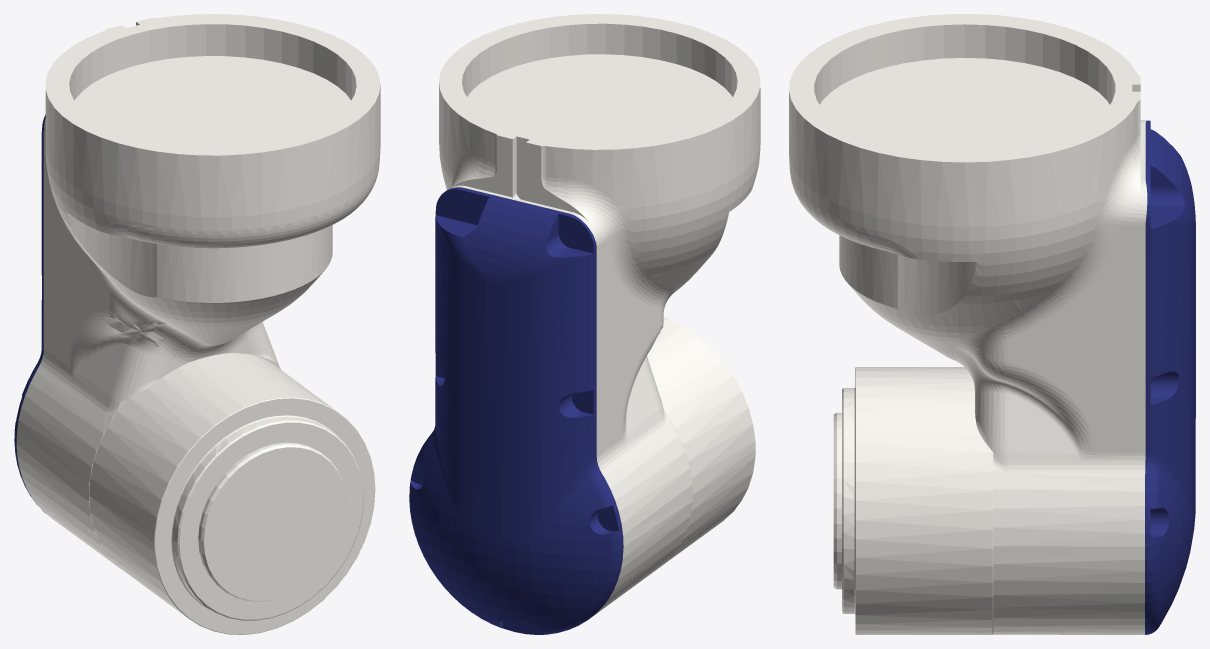
The picture shows the model from 3 angles, left to right: view 1: azimuth 30°, elevation 25°; view 2: azimuth 150°, elevation 25°; view 3: azimuth 270°, elevation 25°; orthographic projection. The views are drawn at different scales.
Parts seen in each view (by area): view 1: link_r; view 2: link_r; view 3: link_r.
Part boxes in pixels (x1,y1,x2,y2): link_r: (14, 14, 380, 634); link_r: (409, 14, 760, 634); link_r: (789, 14, 1195, 634).
Bounding box in the file's own units: 0.105 × 0.1215 × 0.176.
1 material, 1 textured.
